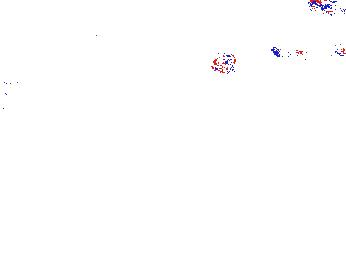red belly glassfish: (207, 52, 236, 75), (304, 1, 346, 15)
redtail glassfish: (269, 36, 345, 61)
